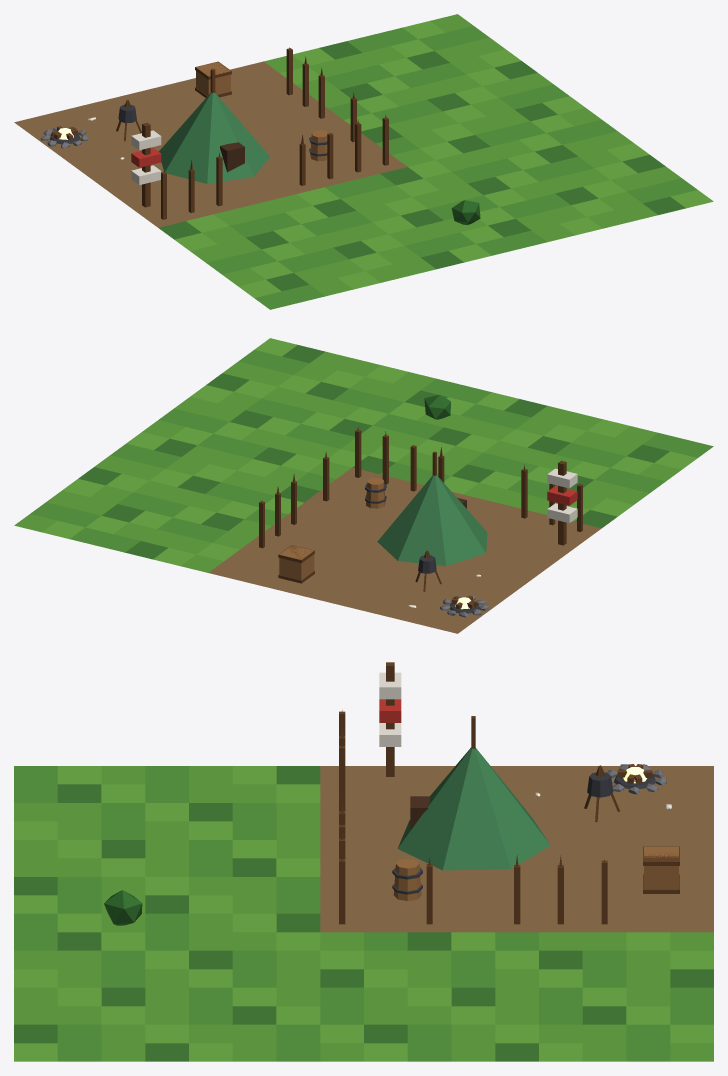
The model's file is chunk_3_5.glb.
3 renders of one model, top to bottom at view 1: azimuth 30°, elevation 25°; view 2: azimuth 150°, elevation 25°; view 3: azimuth 270°, elevation 25°, orthographic. The views are drawn at different scales.
Parts seen in each view (by area): view 1: chunk_3_5; view 2: chunk_3_5; view 3: chunk_3_5.
Part boxes in pixels (bbox=[...]): chunk_3_5: bbox=[14, 14, 713, 309]; chunk_3_5: bbox=[14, 338, 713, 633]; chunk_3_5: bbox=[14, 662, 713, 1061].
Size of the model in its own units: 16 by 3.25 by 16.
